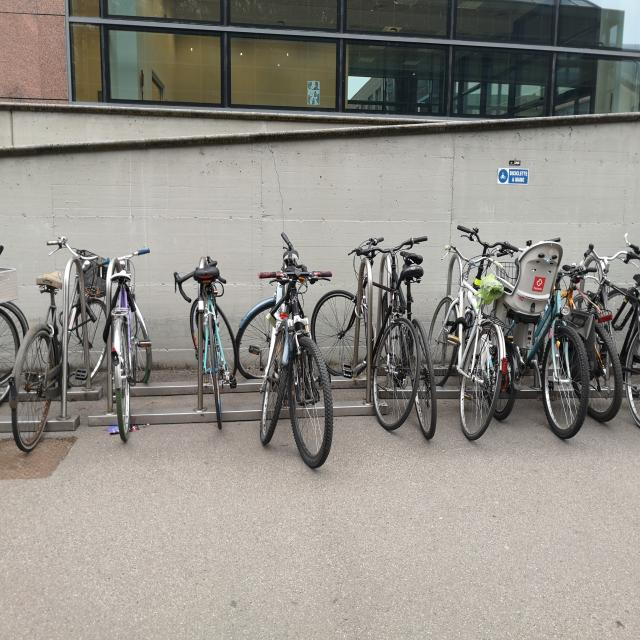Bicycle: (459, 198, 584, 445), (1, 228, 118, 480), (323, 227, 418, 442), (468, 200, 549, 426), (430, 206, 506, 444), (166, 243, 251, 454), (539, 240, 622, 432), (280, 242, 343, 494), (84, 228, 154, 438), (579, 226, 640, 427), (387, 240, 446, 446), (244, 236, 294, 474), (0, 275, 36, 366)
